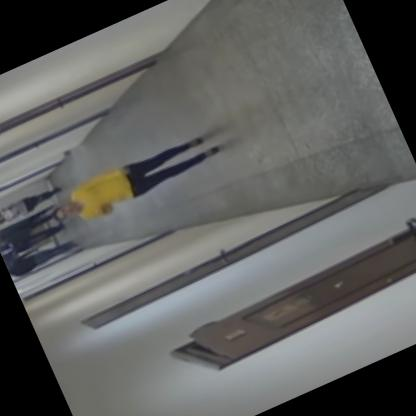Human Body: (38, 112, 230, 240), (0, 206, 68, 264), (3, 233, 72, 286), (0, 176, 60, 233)
